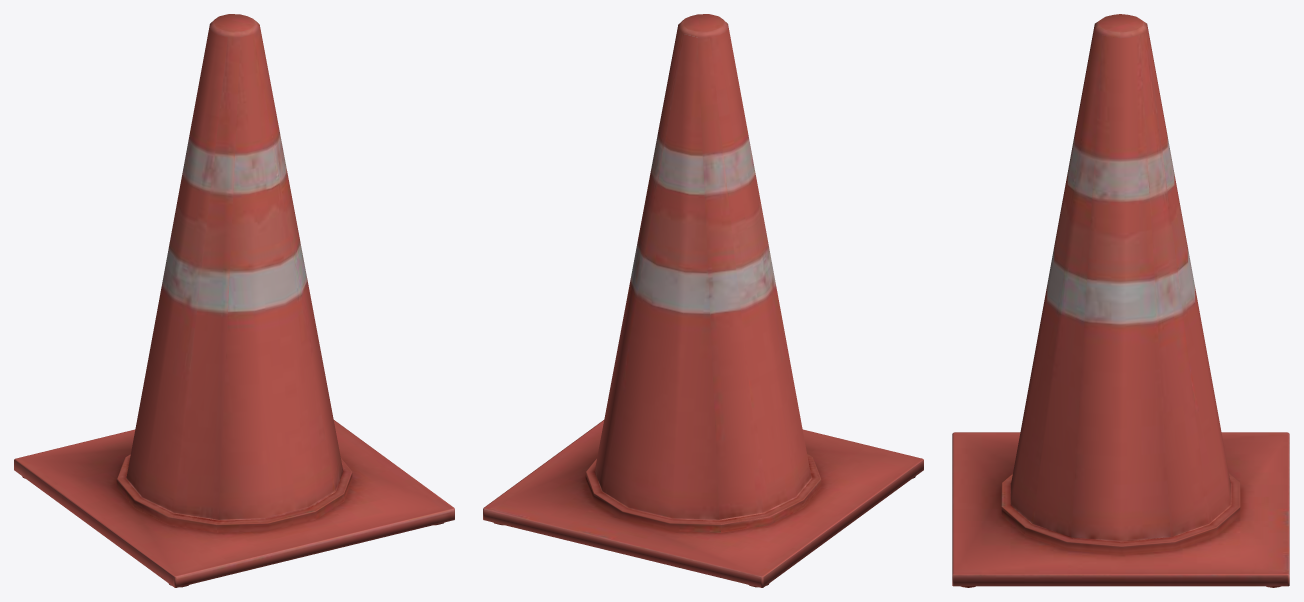
3 renders of one model, left to right at view 1: azimuth 30°, elevation 25°; view 2: azimuth 150°, elevation 25°; view 3: azimuth 270°, elevation 25°, orthographic. The views are drawn at different scales.
Parts seen in each view (by area): view 1: Prop_cone; view 2: Prop_cone; view 3: Prop_cone.
Part boxes in pixels (<box>): Prop_cone: <box>14,14,454,587</box>; Prop_cone: <box>483,14,923,587</box>; Prop_cone: <box>952,14,1289,587</box>.
Bounding box in the file's own units: 0.4315 × 0.7 × 0.4315.
1 material, 1 textured.
